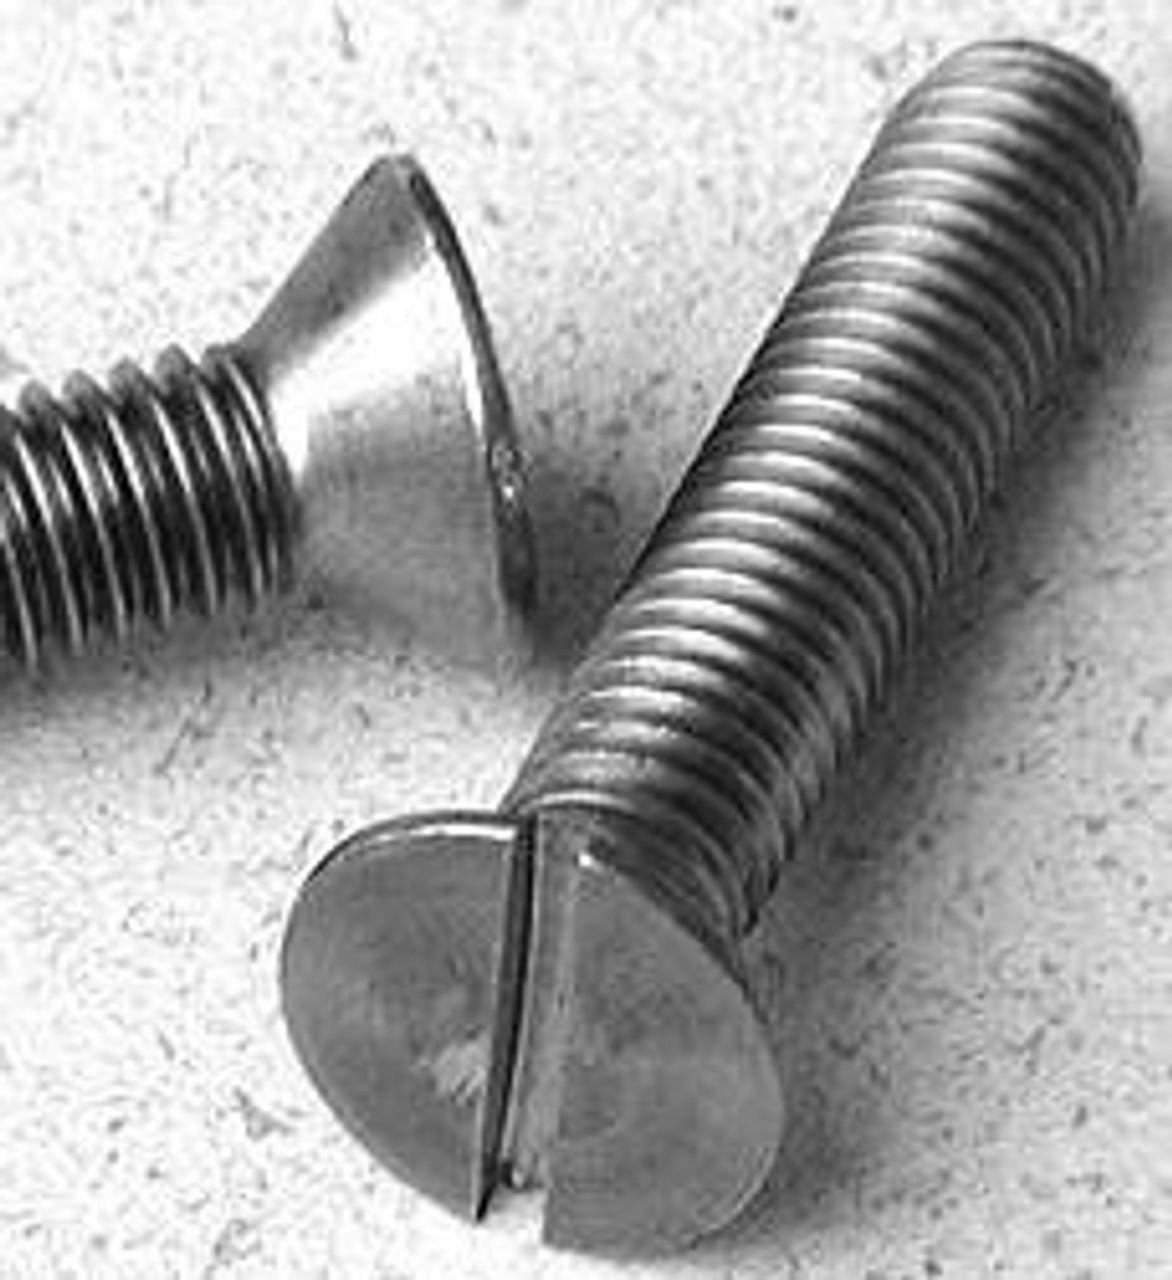slotted: (273, 805, 796, 1258)
